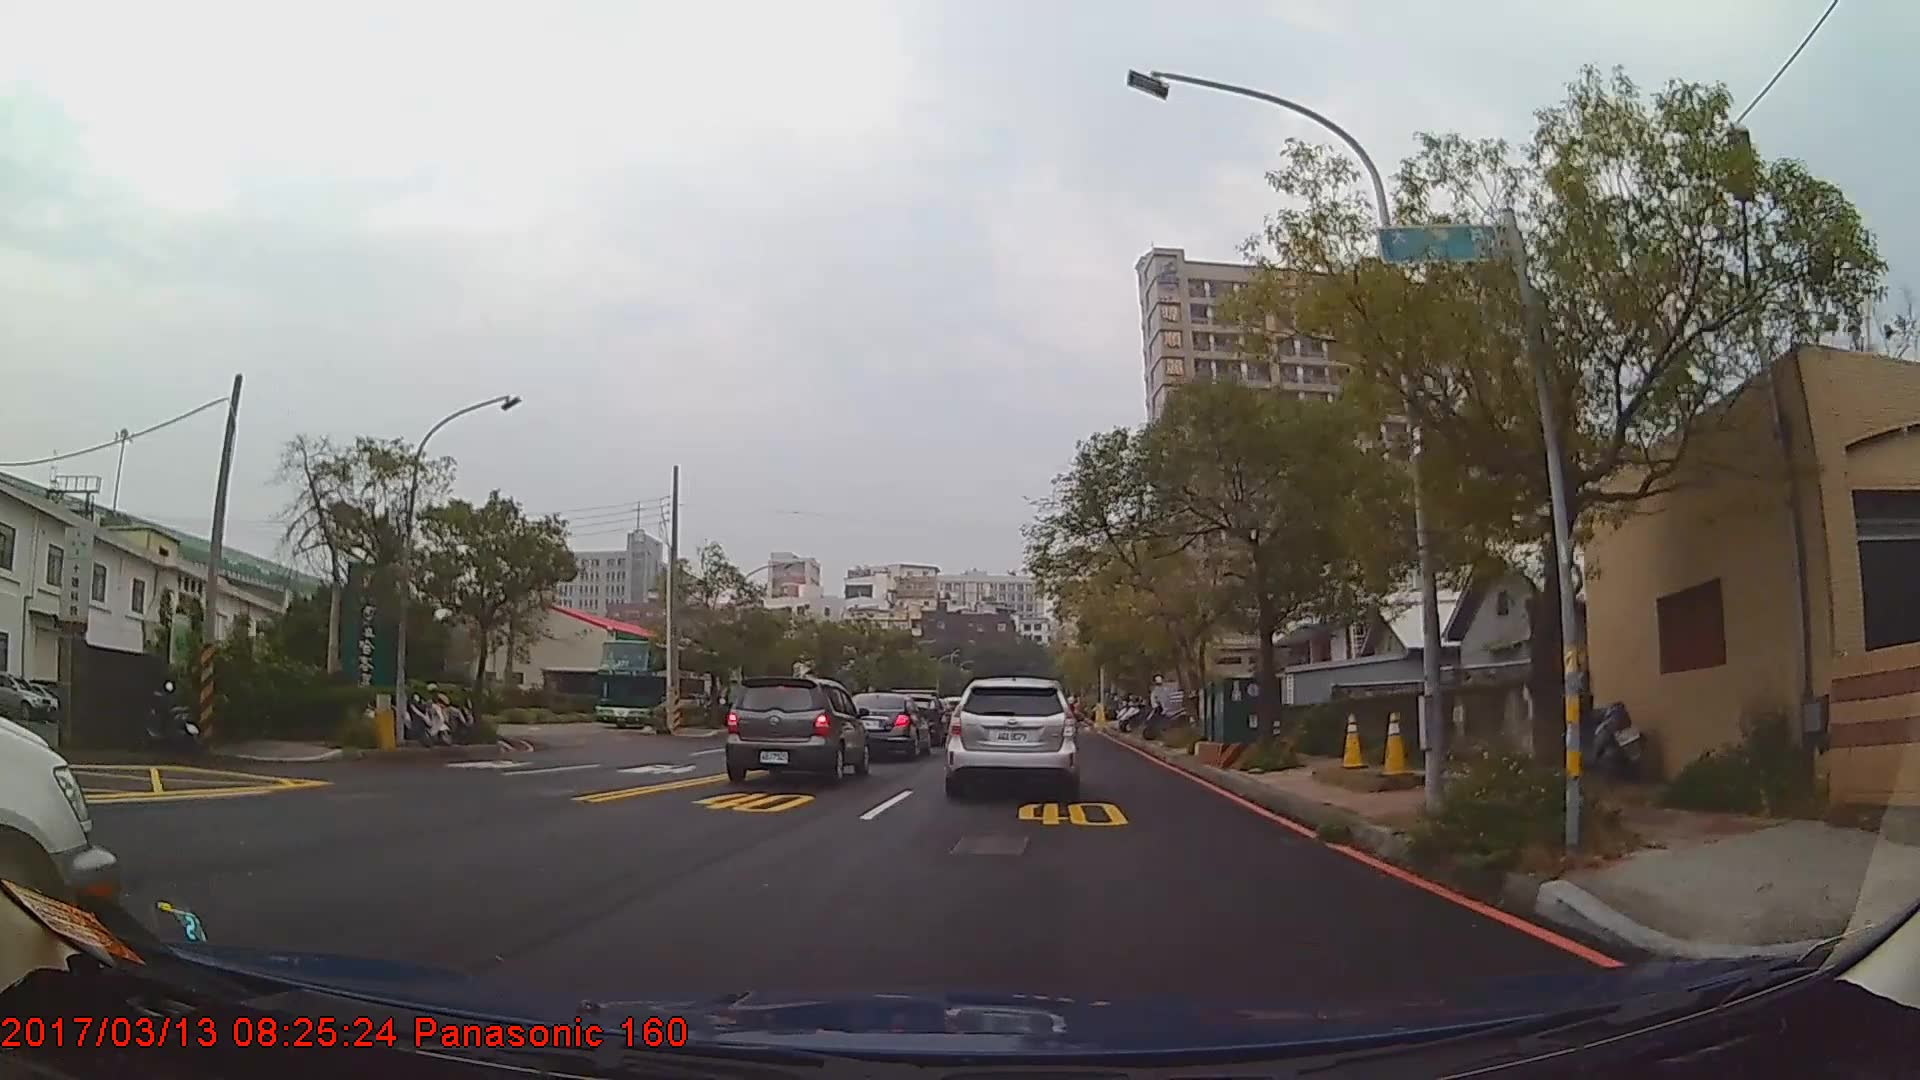vehicle: (0, 713, 116, 951), (944, 676, 1079, 796), (723, 674, 869, 782), (595, 637, 731, 731), (841, 692, 931, 758)
